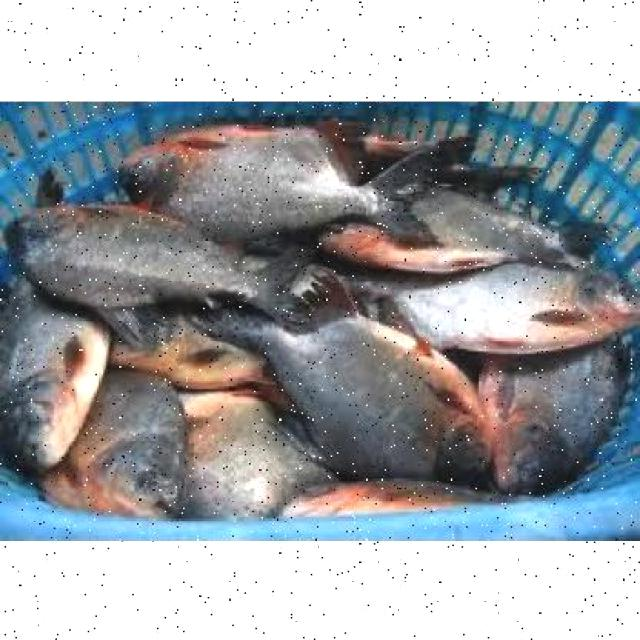ikan-pacu: (226, 308, 492, 480), (9, 199, 302, 318), (122, 125, 398, 228), (391, 262, 640, 356), (1, 300, 116, 463), (324, 189, 574, 263), (72, 370, 190, 512)
